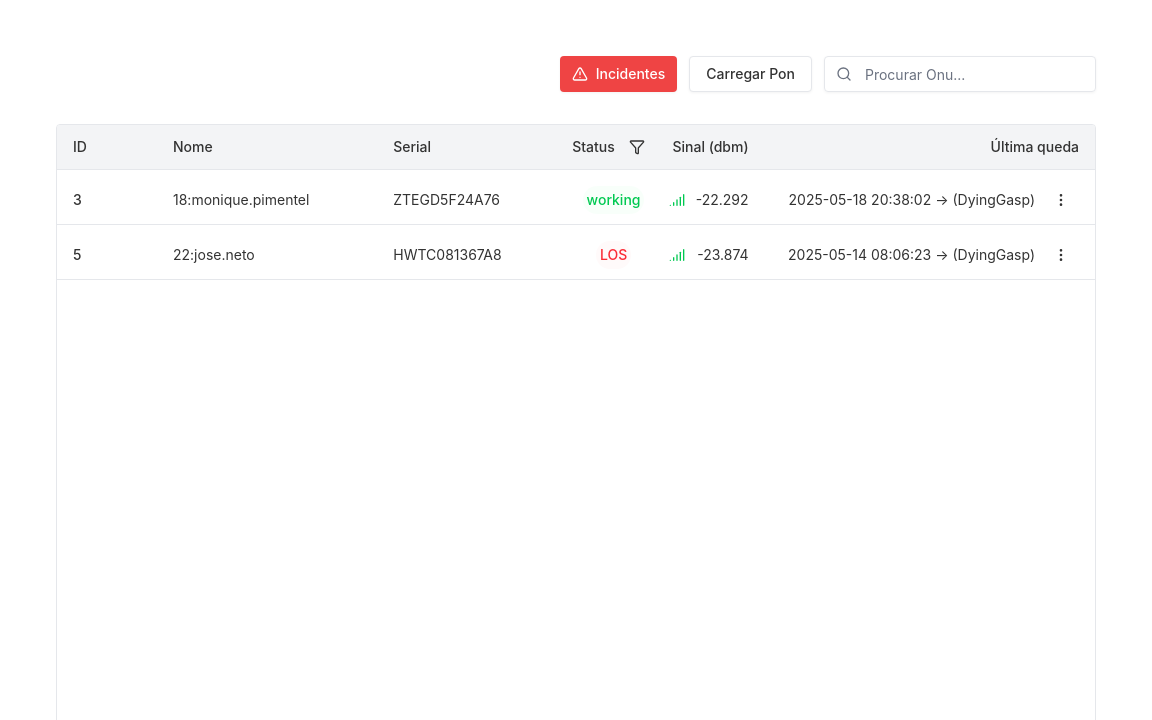
Test: PonScreen Filtrar por nome e serial › Deve filtrar Onus pelo nome
// Digita o texto na barra de busca
Step 1. Type "22:" into the field named "search-Onu" → (960, 74), box [824,56,1096,92]
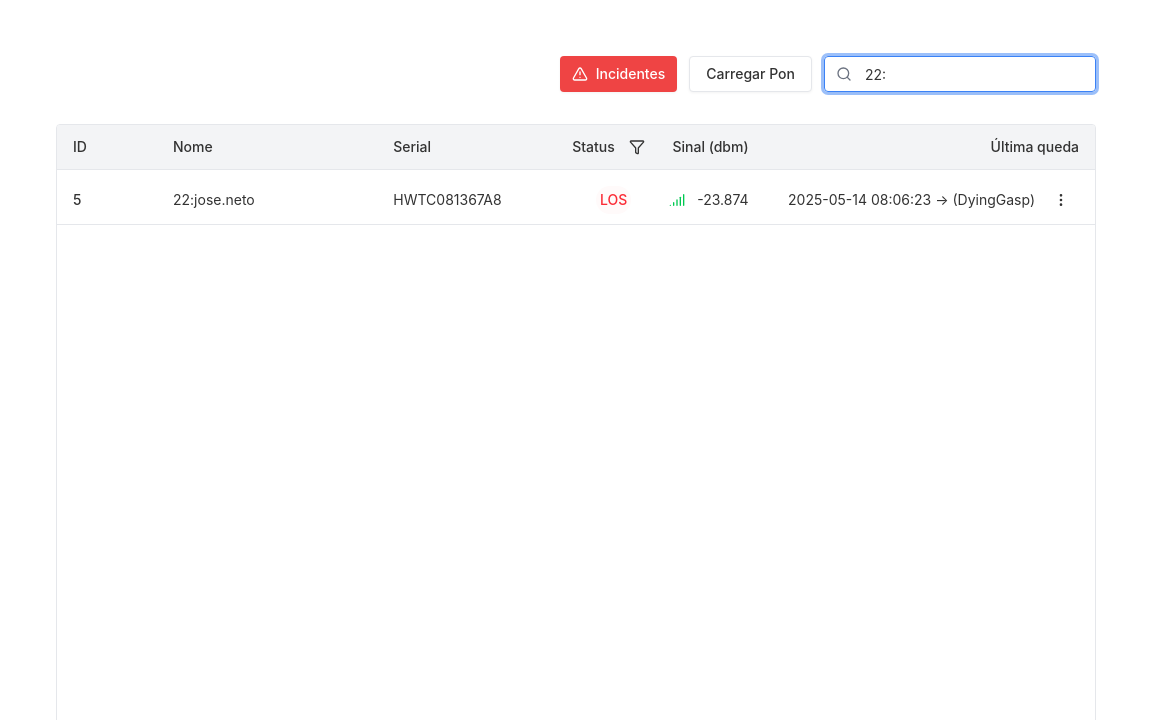
Check: the number of elements named "row" is 1, box [57,170,1095,225]
